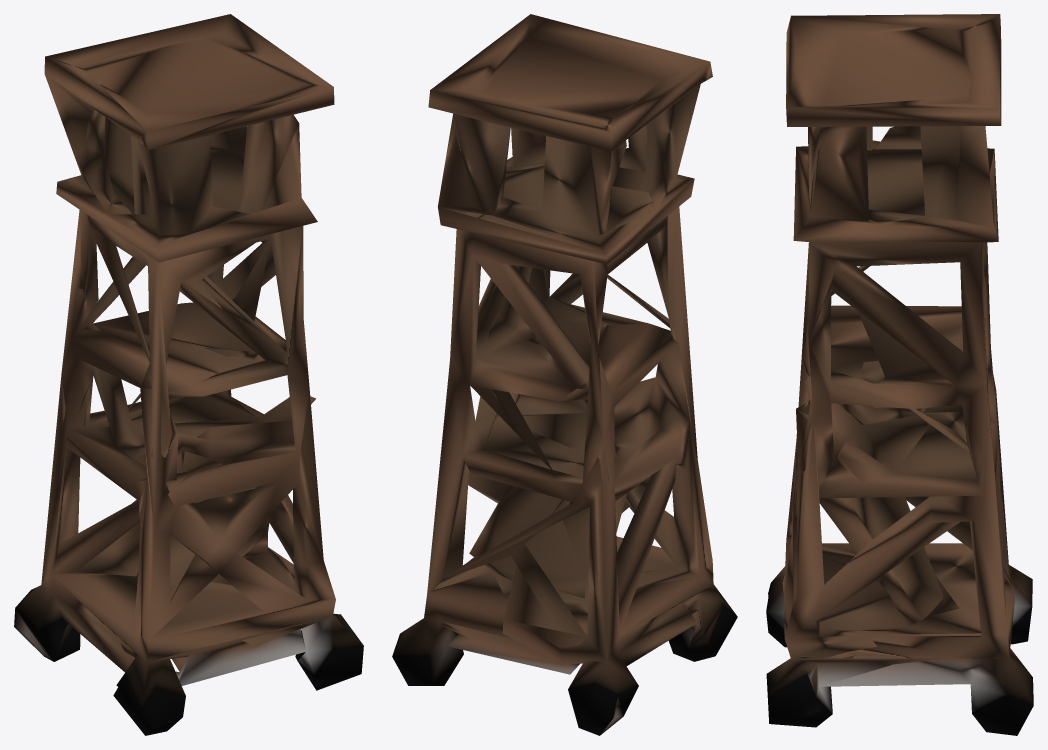
The model's file is gen3d-siege-tower-lod1.glb.
3 renders of one model, left to right at view 1: azimuth 30°, elevation 25°; view 2: azimuth 150°, elevation 25°; view 3: azimuth 270°, elevation 25°, orthographic. The views are drawn at different scales.
Visible parts, largest first — view 1: part_0; view 2: part_0; view 3: part_0.
Part boxes in pixels (bbox=[...]): part_0: bbox=[14, 14, 363, 735]; part_0: bbox=[392, 14, 737, 735]; part_0: bbox=[766, 14, 1033, 735].
Bounding box in the file's own units: 0.3948 × 0.9951 × 0.3846.
